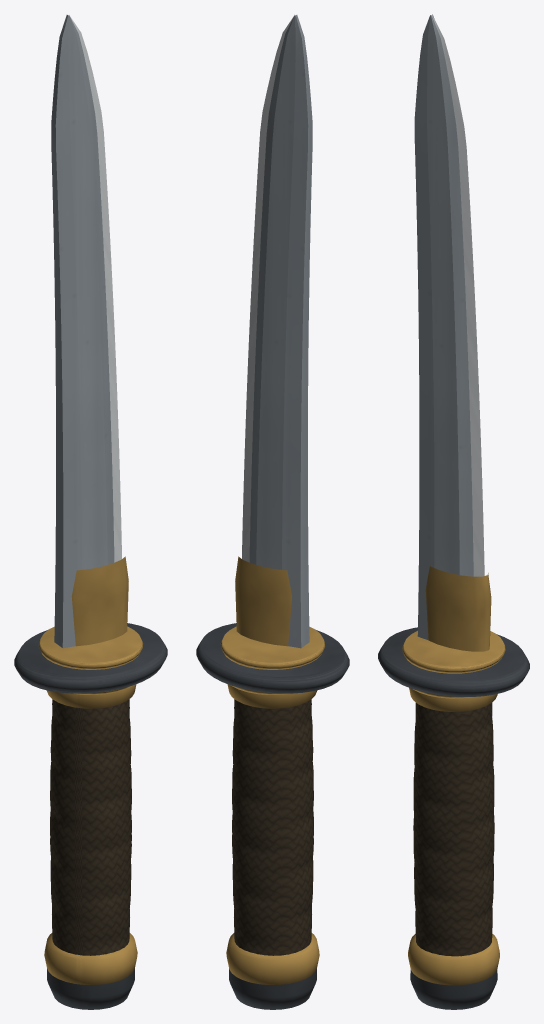
The model's file is tanto.glb.
3 renders of one model, left to right at view 1: azimuth 30°, elevation 25°; view 2: azimuth 150°, elevation 25°; view 3: azimuth 330°, elevation 25°, orthographic.
Visible parts, largest first — view 1: steel / forged blade steel, cord / waxed silk cord wrap, brass / polished brass furniture, darksteel / oil-blackened fittings, edge / honed bright bevel; view 2: steel / forged blade steel, cord / waxed silk cord wrap, brass / polished brass furniture, darksteel / oil-blackened fittings, edge / honed bright bevel; view 3: steel / forged blade steel, cord / waxed silk cord wrap, brass / polished brass furniture, darksteel / oil-blackened fittings, edge / honed bright bevel.
Part boxes in pixels (left/top/right/bottom): steel / forged blade steel: left=51, top=15, right=114, bottom=648; cord / waxed silk cord wrap: left=50, top=699, right=131, bottom=955; brass / polished brass furniture: left=38, top=556, right=143, bottom=984; darksteel / oil-blackened fittings: left=14, top=623, right=167, bottom=1009; edge / honed bright bevel: left=70, top=16, right=121, bottom=562; steel / forged blade steel: left=249, top=15, right=312, bottom=648; cord / waxed silk cord wrap: left=232, top=699, right=313, bottom=955; brass / polished brass furniture: left=220, top=556, right=325, bottom=984; darksteel / oil-blackened fittings: left=196, top=623, right=349, bottom=1009; edge / honed bright bevel: left=242, top=16, right=293, bottom=562; steel / forged blade steel: left=414, top=14, right=473, bottom=640; cord / waxed silk cord wrap: left=413, top=702, right=494, bottom=956; brass / polished brass furniture: left=402, top=566, right=505, bottom=985; darksteel / oil-blackened fittings: left=378, top=627, right=529, bottom=1009; edge / honed bright bevel: left=432, top=15, right=484, bottom=576.
Bounding box in the file's own units: 0.058 × 0.3945 × 0.0476.
5 materials, 5 textured.
